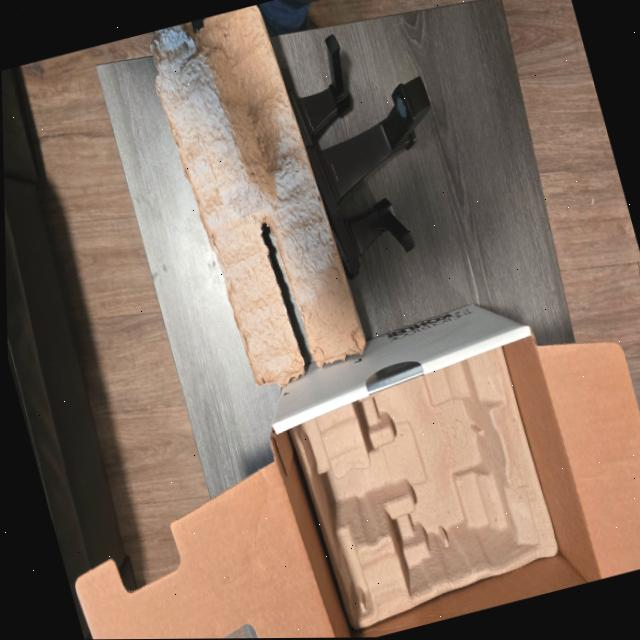9o: (287, 34, 429, 277)
